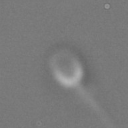normal: (77, 84, 116, 128)
